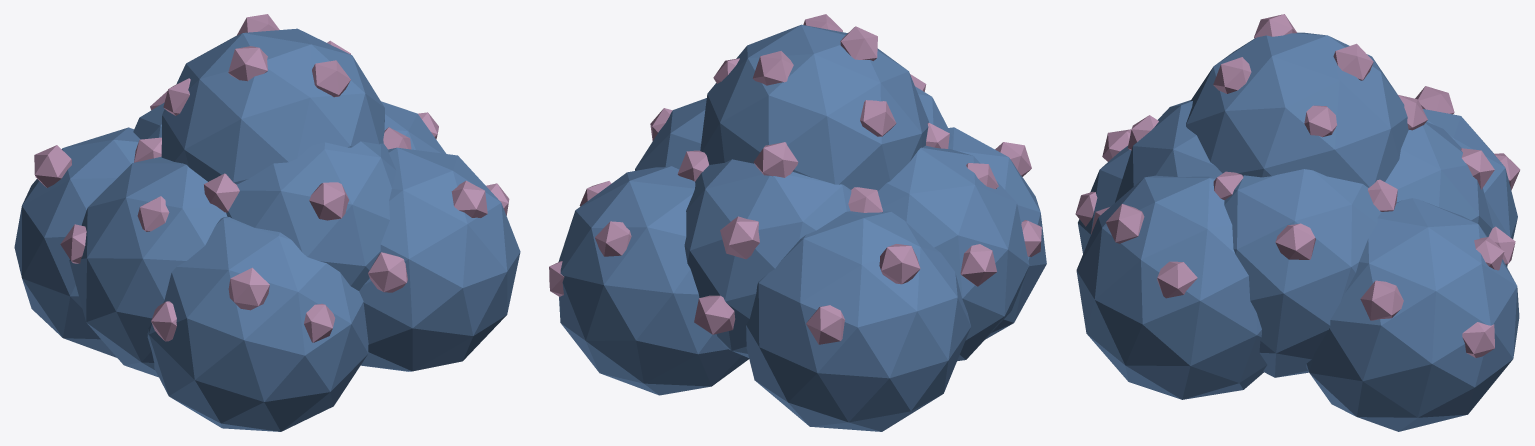
The model's file is Bush Of The Nord.fbx.
3 renders of one model, left to right at view 1: azimuth 30°, elevation 25°; view 2: azimuth 150°, elevation 25°; view 3: azimuth 270°, elevation 25°, orthographic.
Visible parts, largest first — view 1: Icosphere.320; view 2: Icosphere.320; view 3: Icosphere.320.
Part boxes in pixels (x1,y1,x2,y2): Icosphere.320: (14,14,520,431); Icosphere.320: (549,14,1046,431); Icosphere.320: (1075,14,1520,431).
Size of the model in its own units: 188 by 157 by 188.
